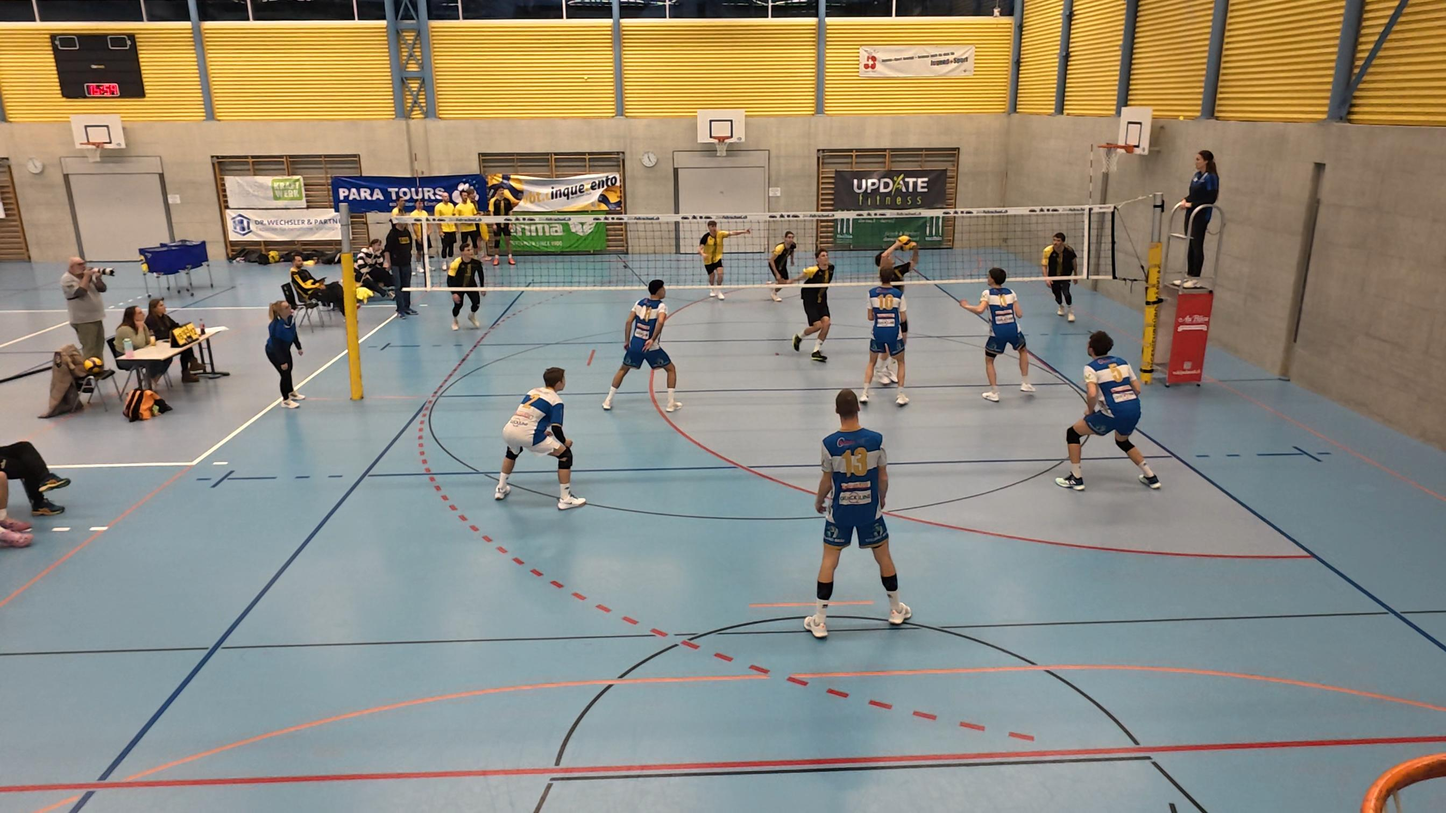Player: (807, 392, 913, 638), (1059, 331, 1161, 489), (494, 367, 583, 509), (601, 280, 684, 412), (977, 268, 1038, 403), (864, 268, 910, 407), (795, 247, 838, 363), (1039, 232, 1081, 323), (447, 242, 486, 334), (698, 219, 734, 302), (765, 230, 800, 304)
Set: (882, 231, 920, 288)
ball: (895, 232, 917, 252)
